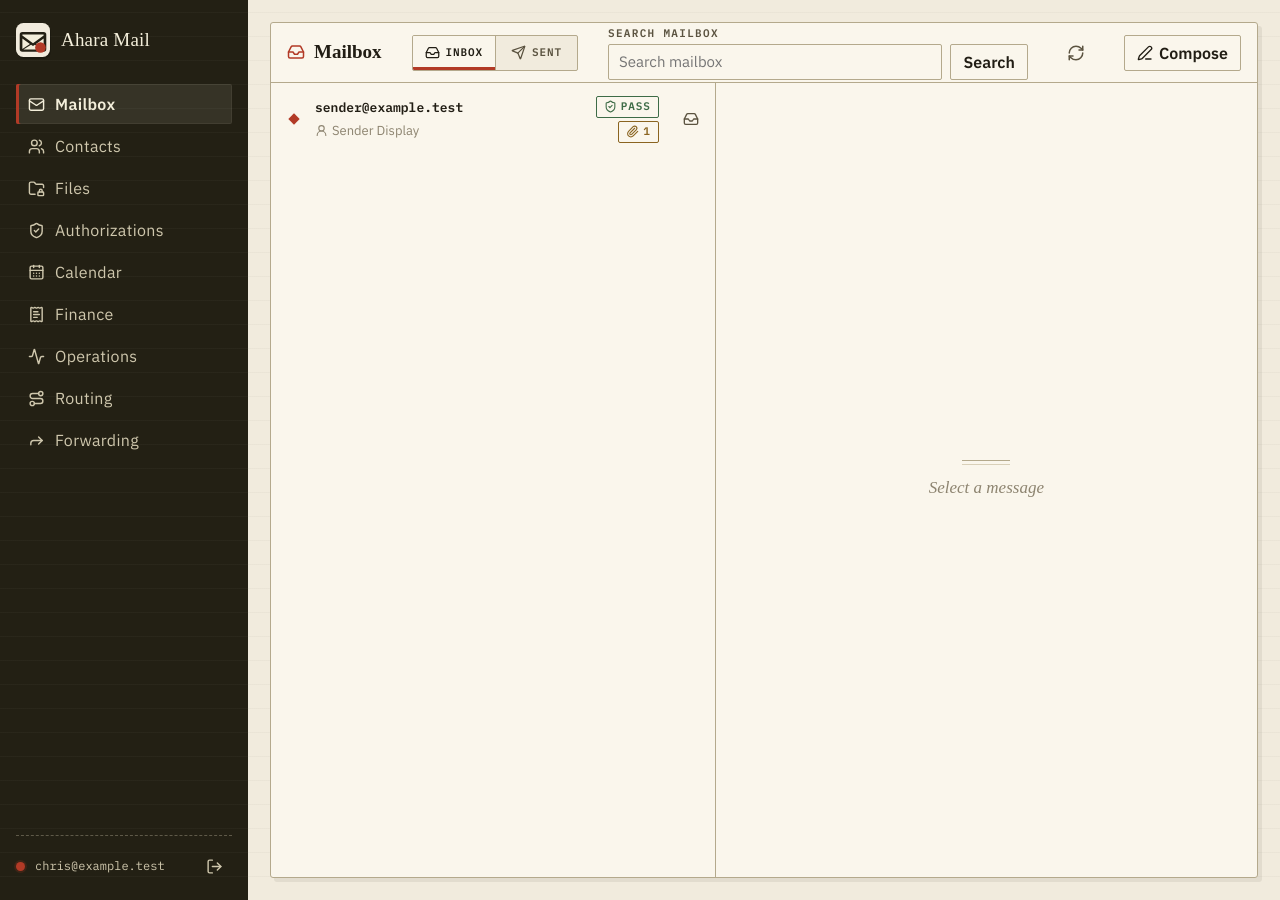
Test: App › opens the forwarding panel from signed-in navigation
The width and height of the screenshot is (1280, 900).
What coordinates should you click on to do the following:
click the button "Forwarding"
I would click on:
 (124, 440)
Its box is [16, 420, 232, 460].
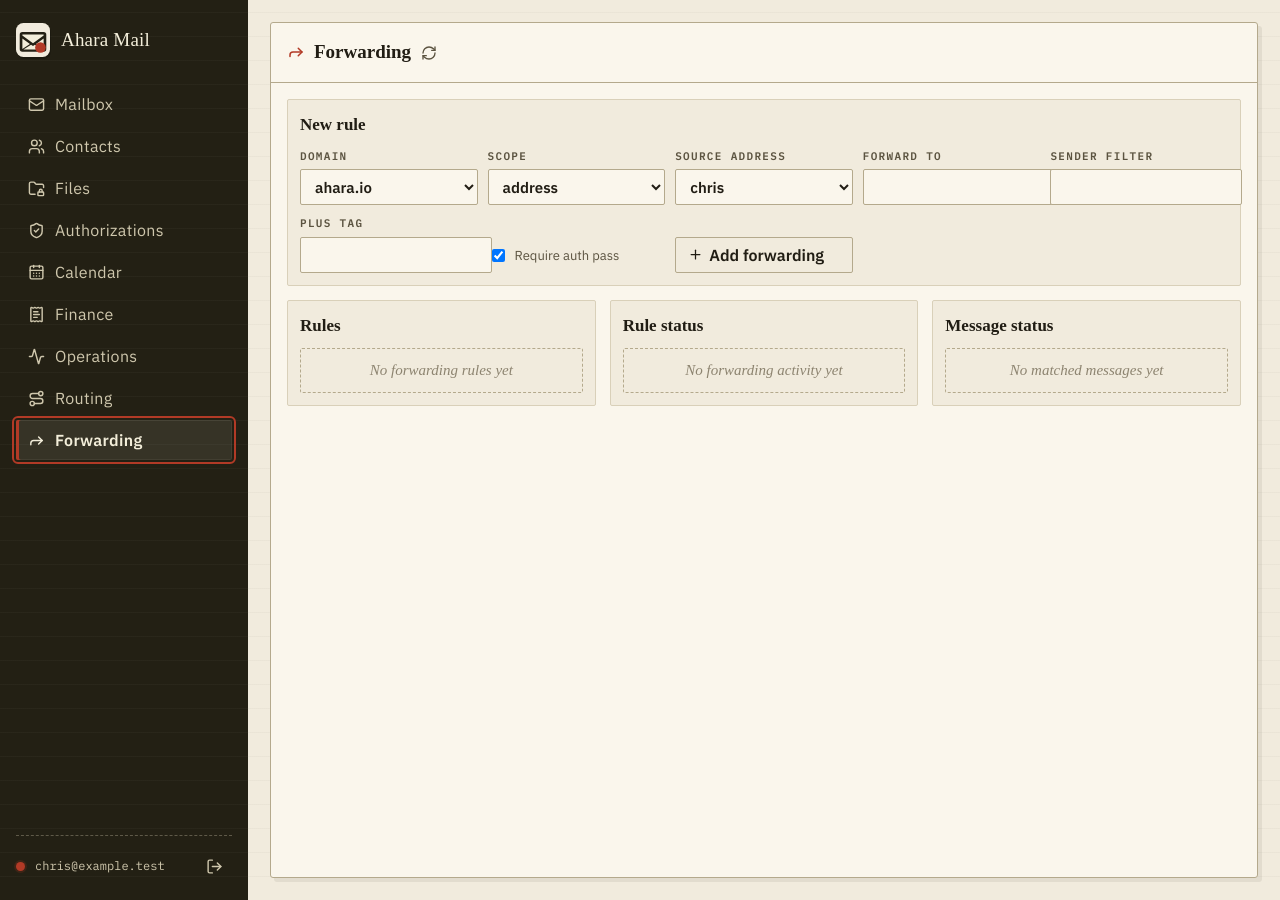
Expected: the text "No forwarding rules yet" is shown, [300, 348, 583, 392]
Expected: the text "No matched messages yet" is shown, [945, 348, 1228, 392]
